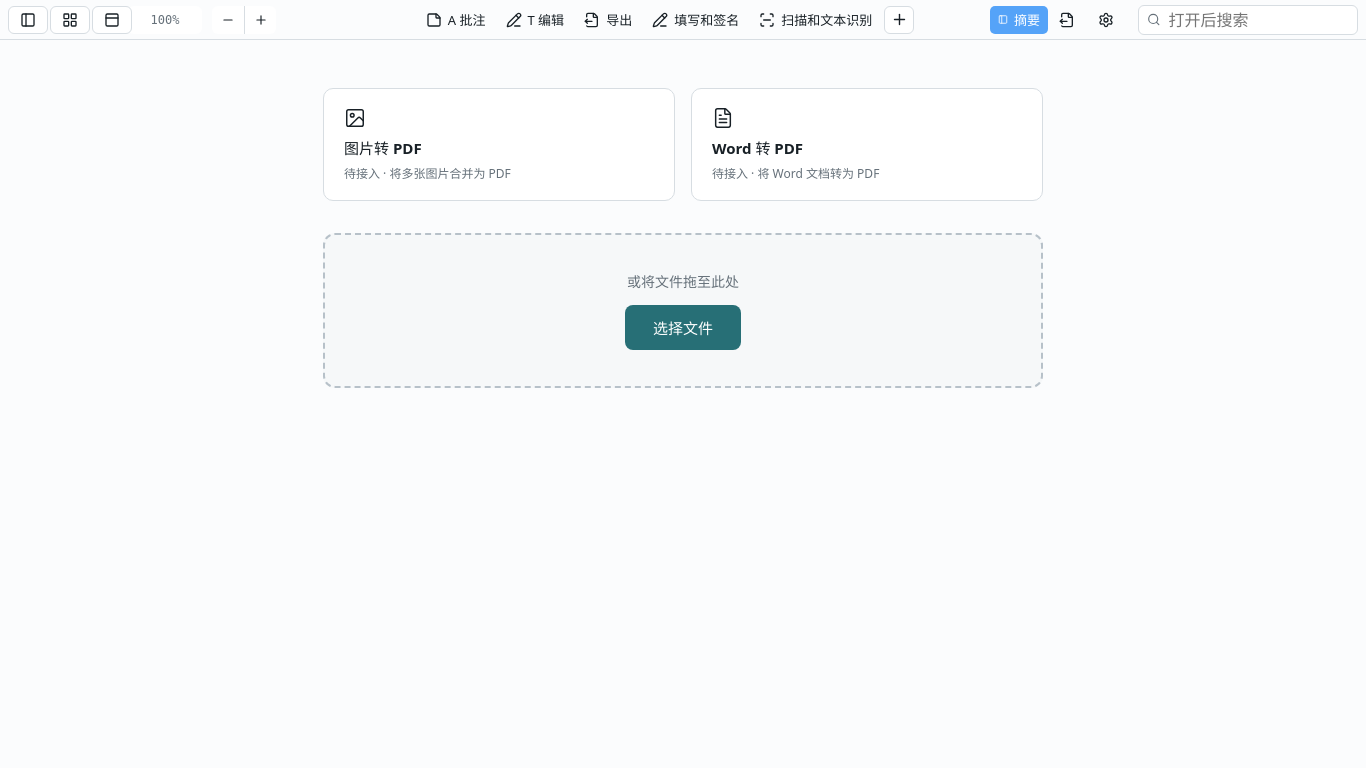
it: FaroPDF app shell › opens view settings and app settings in the left utility area
What coordinates should you click on to do the following:
click the button named "视图设置"
I would click on:
 (112, 20)
Its box is x1=92 y1=6 x2=132 y2=34.
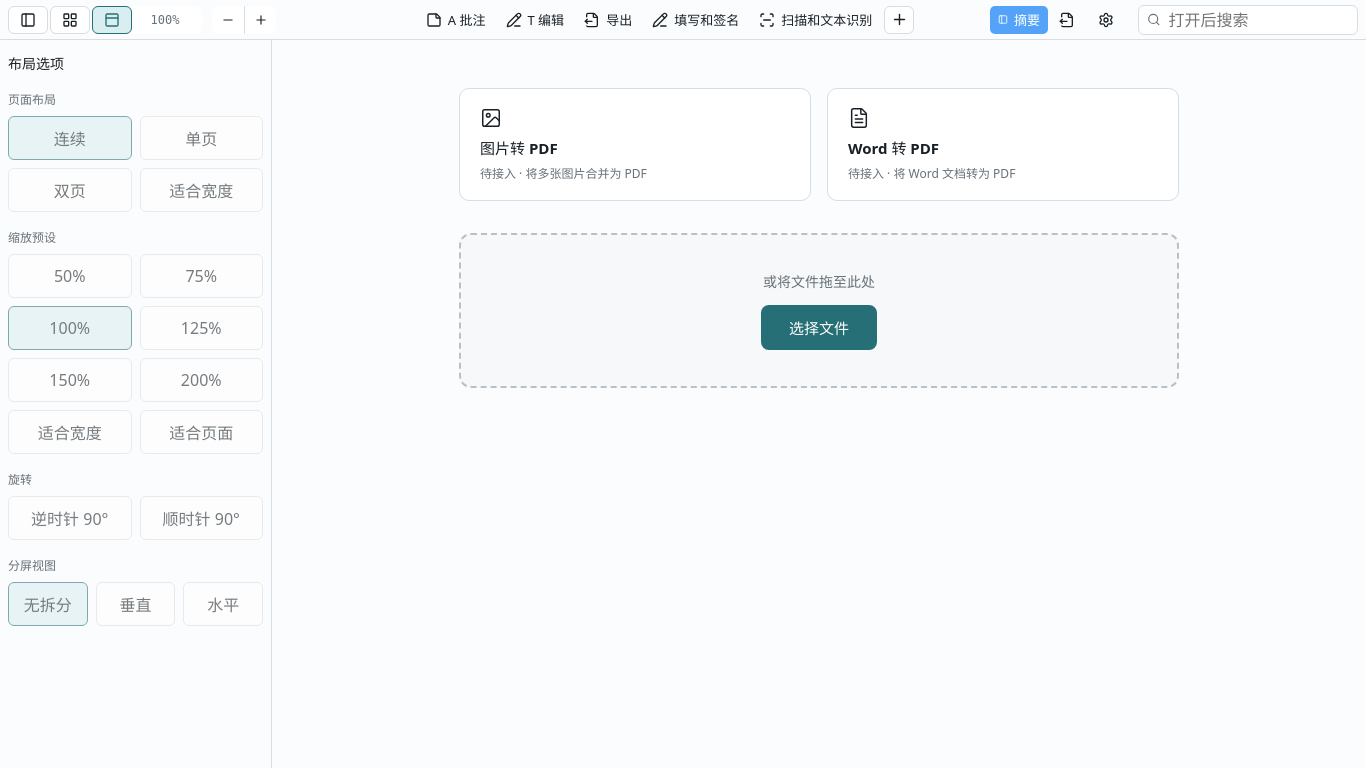
expect the element named "视图设置" is shown: met, box x1=0 y1=40 x2=272 y2=767
expect the button "单页" is shown: met, box x1=140 y1=116 x2=263 y2=160
expect the button "双页" is shown: met, box x1=8 y1=168 x2=132 y2=212
What coordinates should you click on to do the following:
click the button named "工具"
I would click on:
 (899, 20)
Its box is x1=884 y1=6 x2=914 y2=34.
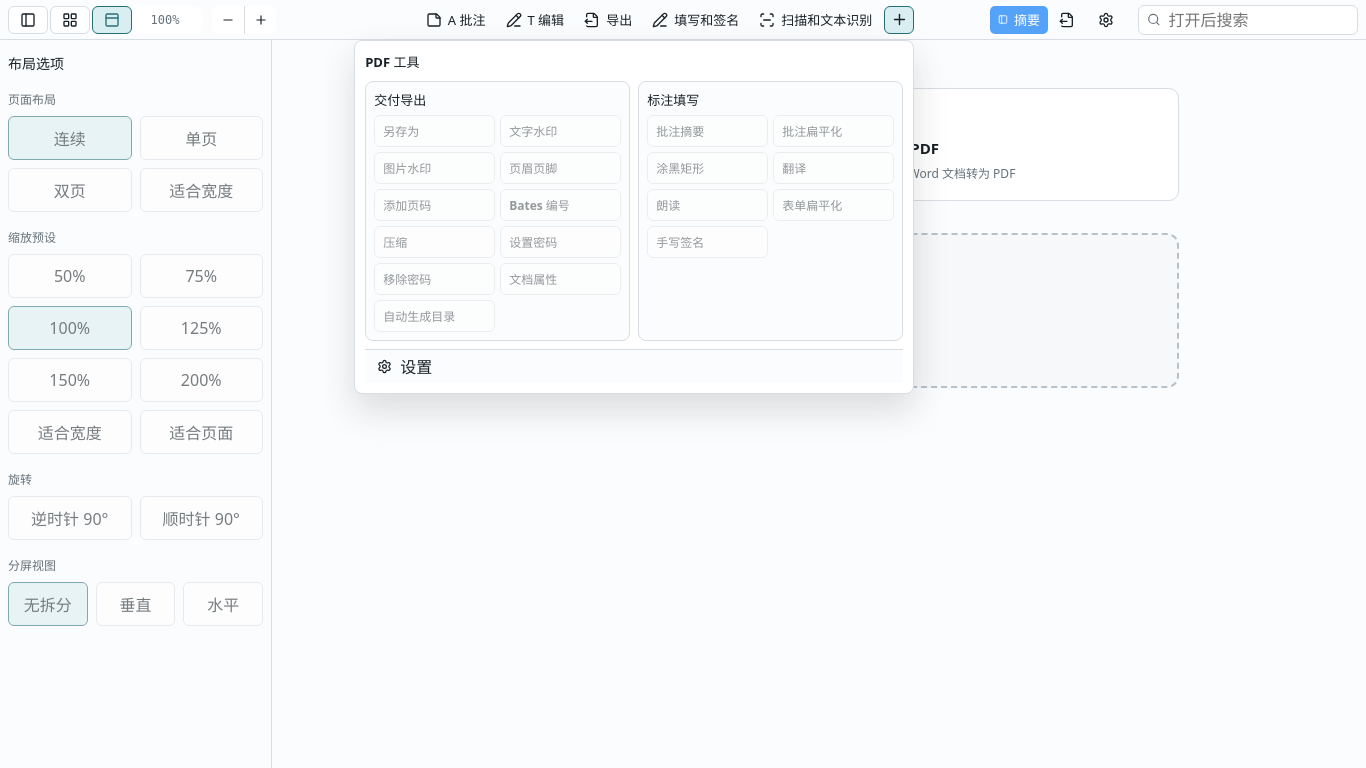
What coordinates should you click on to do the following:
click the menu item "设置"
I would click on:
 (416, 367)
Its box is x1=365 y1=348 x2=903 y2=382.
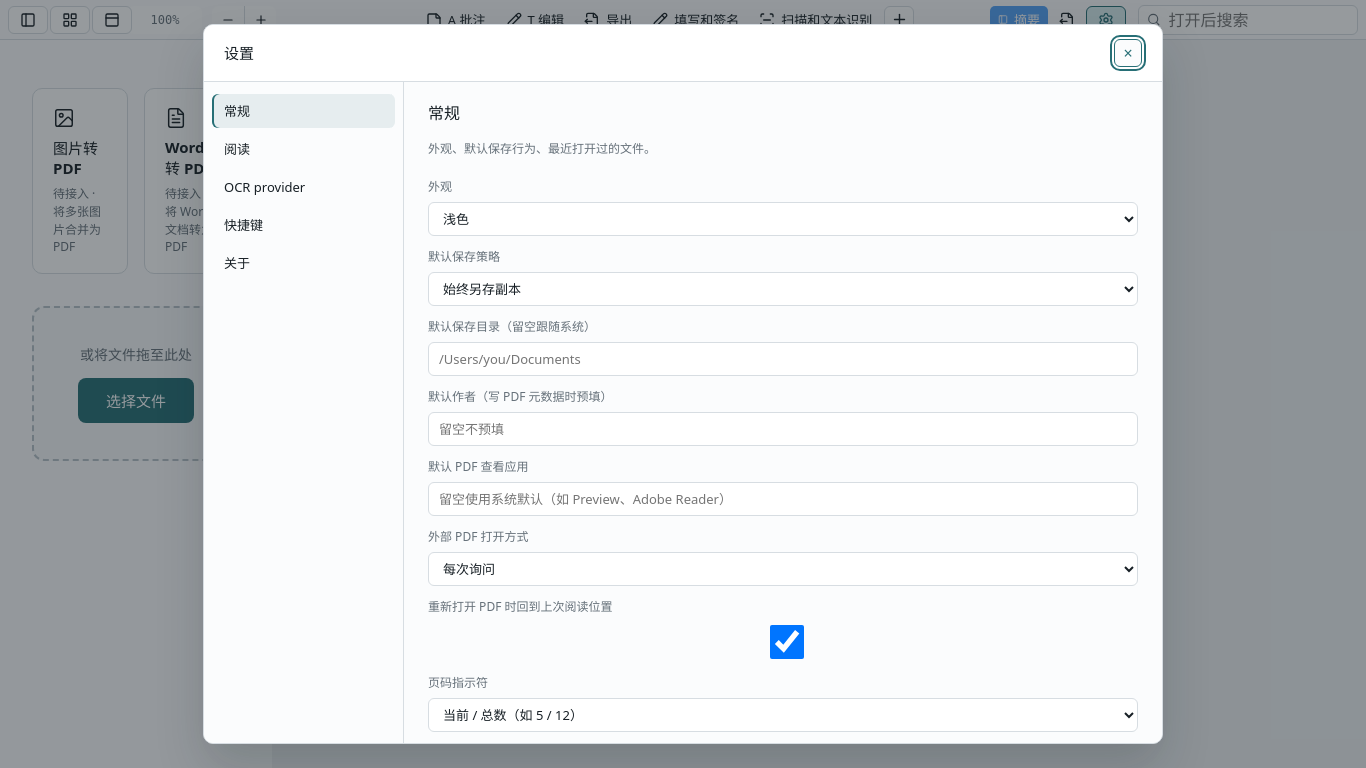
expect the field labelled "默认 OCR 后端" is not shown: met
expect the heading "设置" is shown: met, box x1=224 y1=43 x2=254 y2=63
expect the dialog named "设置对话框" is shown: met
What coordinates should you click on to do the following:
click the tab "OCR provider"
I would click on:
 (304, 187)
Its box is x1=212 y1=170 x2=395 y2=204.
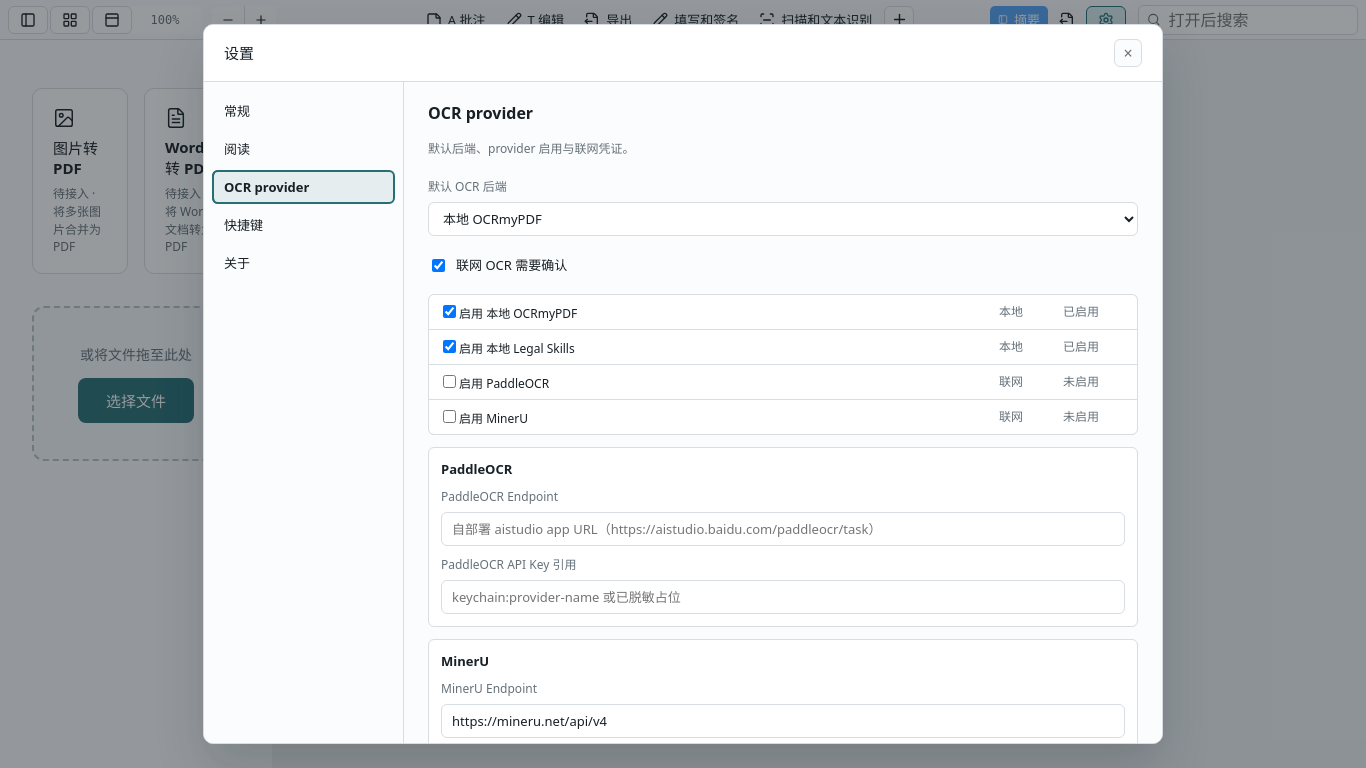
expect the dropdown labelled "默认 OCR 后端" shows "本地 OCRmyPDF": met, box x1=428 y1=202 x2=1138 y2=236
expect the text "联网 OCR 需要确认" is shown: met, box x1=456 y1=256 x2=567 y2=274
